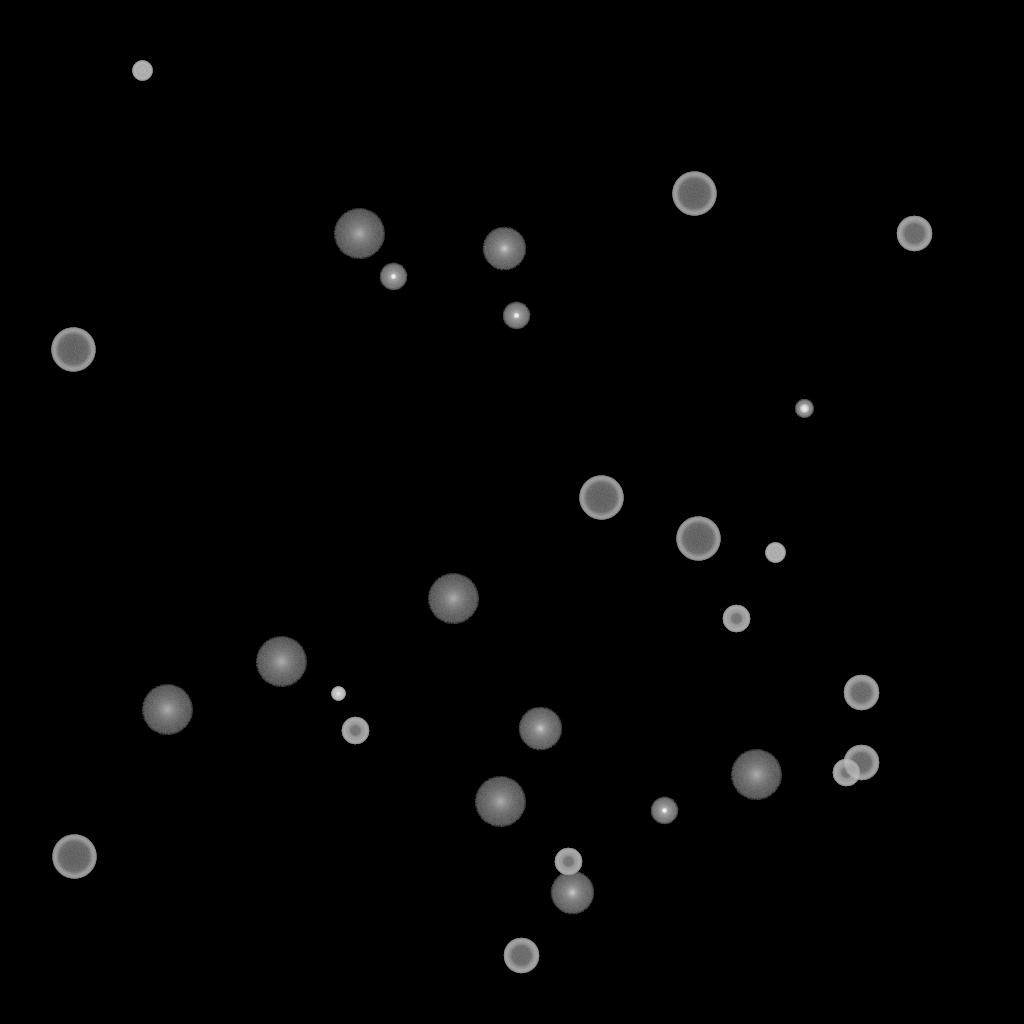depth:-10: (502, 302, 530, 330), (379, 263, 407, 291), (650, 797, 678, 825)
depth:-20: (795, 400, 813, 418)
depth:-30: (331, 687, 345, 701)
depth:-40: (765, 543, 785, 563), (132, 61, 152, 81)
depth:-50: (341, 717, 369, 745), (554, 848, 582, 876), (832, 759, 860, 787), (722, 605, 750, 633)
depth:-60: (843, 745, 879, 781), (503, 938, 539, 974), (843, 675, 879, 711), (896, 216, 932, 252)
depth:-70: (52, 835, 96, 879), (676, 517, 720, 561), (51, 328, 95, 372), (672, 172, 716, 216), (579, 476, 623, 520)
depth:10: (518, 707, 562, 751), (550, 871, 594, 915), (482, 227, 526, 271)
depth:20: (255, 637, 307, 687), (427, 574, 479, 624), (730, 750, 782, 800), (474, 777, 526, 827), (333, 209, 385, 259), (141, 685, 193, 735)
